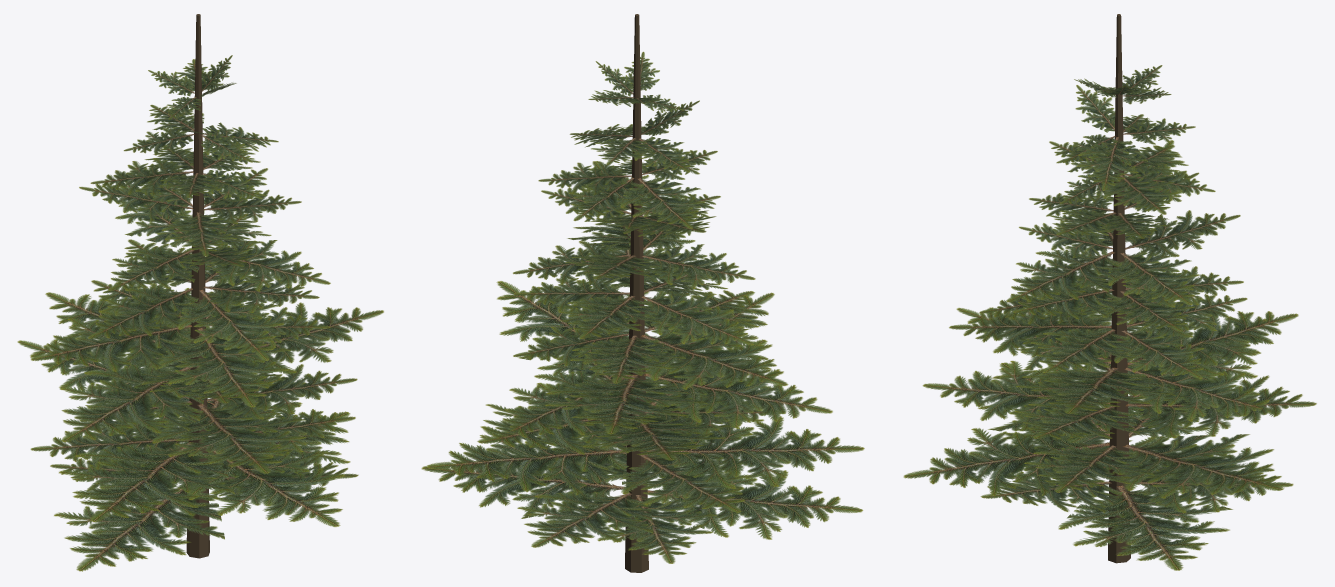
File: fir-1.glb
3 views of the same model, side by side, from view 1: azimuth 30°, elevation 25°; view 2: azimuth 150°, elevation 25°; view 3: azimuth 270°, elevation 25° (orthographic). The views are drawn at different scales.
Parts seen in each view (by area): view 1: Evergreen boughs, Tapered evergreen trunk; view 2: Evergreen boughs, Tapered evergreen trunk; view 3: Evergreen boughs, Tapered evergreen trunk.
Part boxes in pixels (x1=…): Evergreen boughs: x1=17, y1=55, x2=383, y2=571; Tapered evergreen trunk: x1=186, y1=14, x2=209, y2=558; Evergreen boughs: x1=421, y1=51, x2=864, y2=563; Tapered evergreen trunk: x1=625, y1=14, x2=648, y2=572; Evergreen boughs: x1=903, y1=65, x2=1316, y2=570; Tapered evergreen trunk: x1=1108, y1=14, x2=1130, y2=563.
Bounding box in the file's own units: 2.23 × 3.2 × 2.26.
2 materials, 1 textured.
